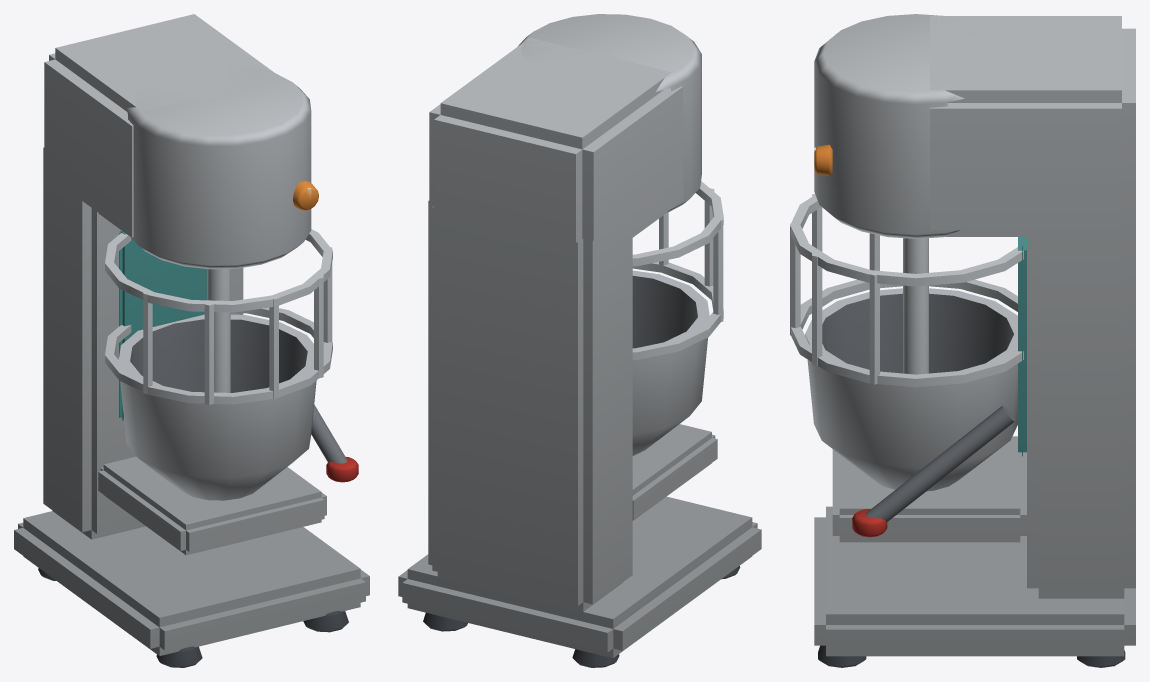
Rendered from SM_Mixer_Floor_01.glb.
3 views of the same model, side by side, from view 1: azimuth 30°, elevation 25°; view 2: azimuth 150°, elevation 25°; view 3: azimuth 270°, elevation 25° (orthographic). The views are drawn at different scales.
Parts seen in each view (by area): view 1: SM_Mixer_Floor_01; view 2: SM_Mixer_Floor_01; view 3: SM_Mixer_Floor_01.
Boxes of the visible parts, left/top/right/bottom form: SM_Mixer_Floor_01: left=14, top=14, right=369, bottom=667; SM_Mixer_Floor_01: left=398, top=14, right=761, bottom=667; SM_Mixer_Floor_01: left=790, top=14, right=1135, bottom=667.
Size of the model in its own units: 0.618 by 1.35 by 0.7473.
Materials: 1 (1 with a texture image).
